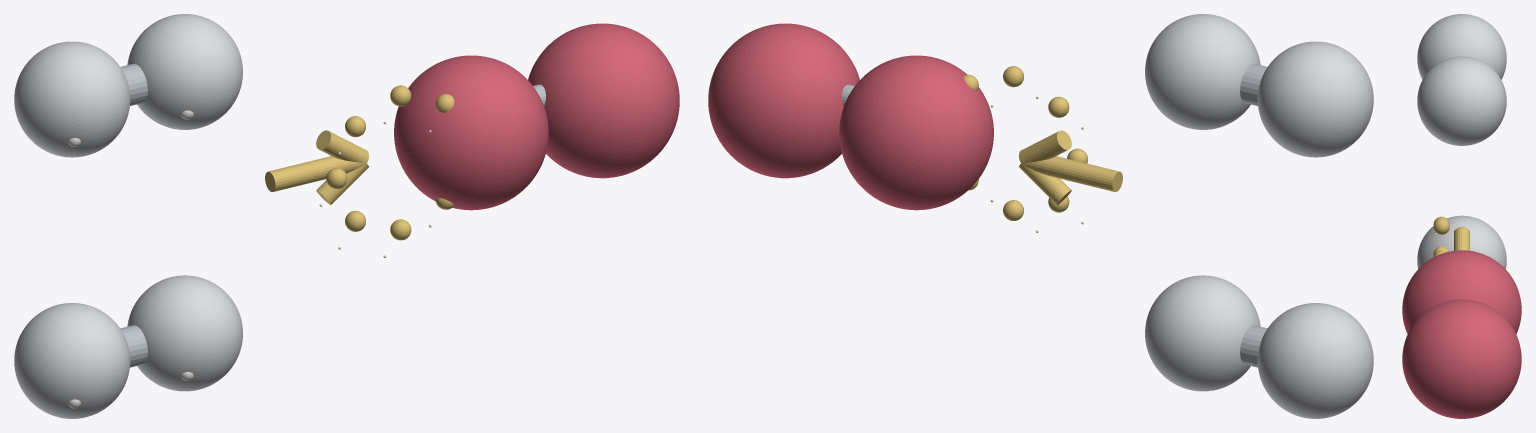
Rendered from 02_COLISAO_EFETIVA.glb.
3 views of the same model, side by side, from view 1: azimuth 30°, elevation 25°; view 2: azimuth 150°, elevation 25°; view 3: azimuth 270°, elevation 25° (orthographic). The views are drawn at different scales.
Parts seen in each view (by area): view 1: world; view 2: world; view 3: world.
Boxes of the visible parts, bbox=[...] form: world: bbox=[14, 14, 679, 418]; world: bbox=[708, 14, 1373, 418]; world: bbox=[1402, 14, 1521, 418].
Bounding box in the file's own units: 4.25 × 2.3 × 0.88.
